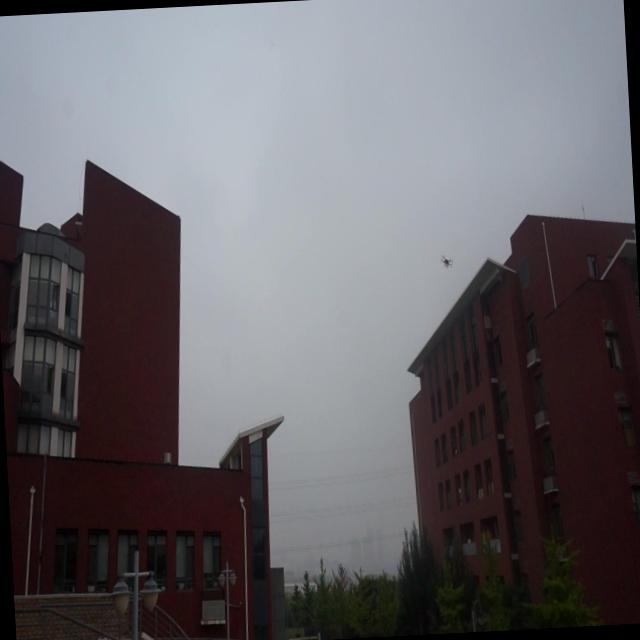drone: (436, 250, 454, 272)
